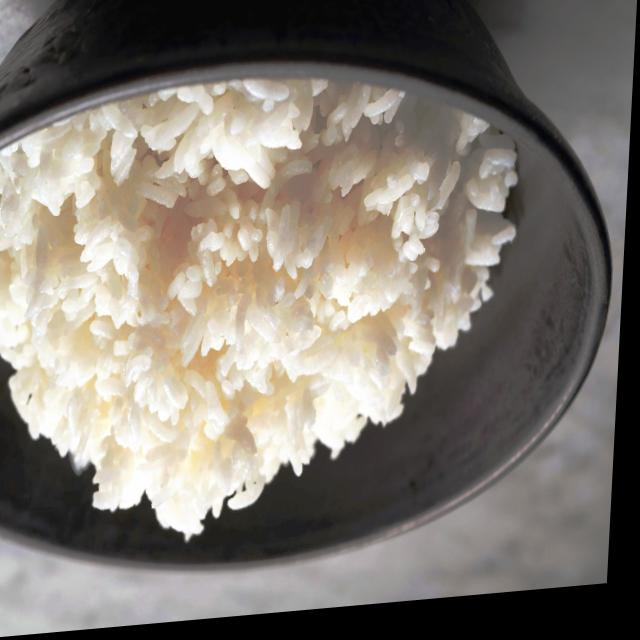rice: (0, 54, 527, 562)
